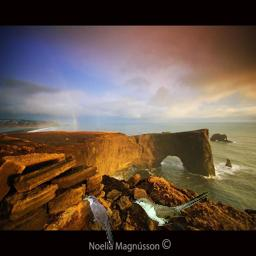Cuckoo: (132, 190, 210, 226), (83, 195, 115, 246)
